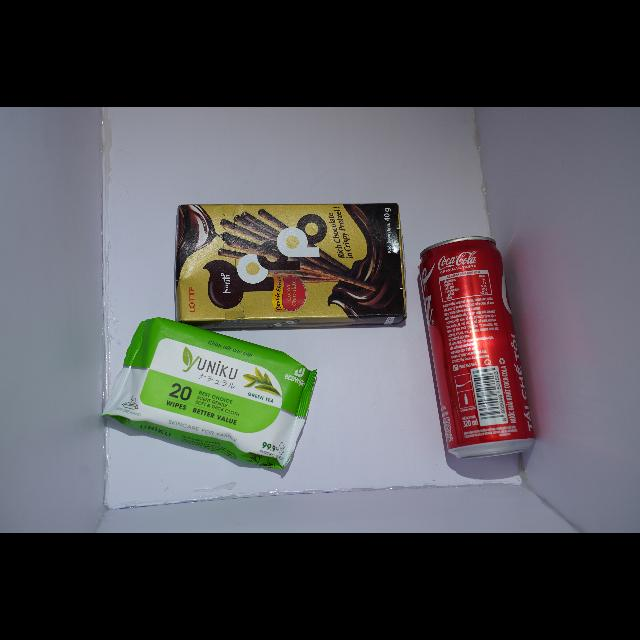banh_toppo_socola: (176, 204, 406, 326)
coca_cola: (420, 238, 534, 458)
khan_giay: (103, 318, 317, 470)
